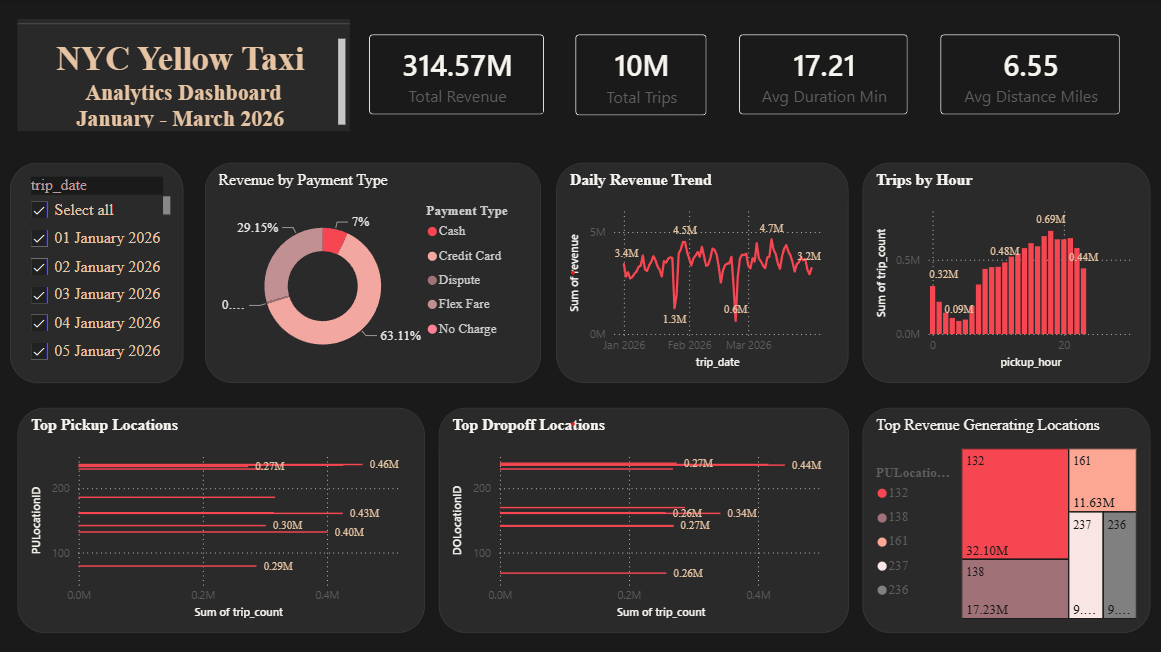

This screenshot's page, from the dashboard's own definition file:
{"tool":"powerbi","page":{"name":"Page 1","canvas":[1280,720],"ordinal":0},"visuals":[{"type":"cardVisual","title":"Average Trip Distance","fields":{"Data":["Avg(daily_kpi.avg_distance)"]},"box":[1015.4,22,231.9,122.1],"z":0},{"type":"cardVisual","title":"Average Trip Duration (Minutes)","fields":{"Data":["Avg(daily_kpi.avg_duration)"]},"box":[794.2,22,219.6,122.1],"z":1000},{"type":"cardVisual","title":"Total Trips","fields":{"Data":["daily_kpi.Total Trips KPI"]},"box":[614.1,22,178.4,123.5],"z":2000},{"type":"lineChart","title":"Daily Revenue Trend","fields":{"Category":["daily_revenue.trip_date"],"Y":["Sum(daily_revenue.revenue)"]},"box":[610.2,179.8,321.1,241.5],"z":3000},{"type":"clusteredColumnChart","title":"Trips by Hour","fields":{"Category":["trips_by_hour.pickup_hour"],"Y":["Sum(trips_by_hour.trip_count)"]},"box":[946.8,179.8,315.6,241.5],"z":4000},{"type":"donutChart","title":"Revenue by Payment Type","fields":{"Series":["payment_analysis.Payment Type Name"],"Y":["Sum(payment_analysis.revenue)"]},"box":[225.5,179.8,369.1,241.5],"z":5000},{"type":"clusteredBarChart","title":"Top Pickup Locations","fields":{"Category":["top_pickup_locations.PULocationID"],"Y":["Sum(top_pickup_locations.trip_count)"]},"box":[19.2,448.7,447.3,247],"z":6000},{"type":"clusteredBarChart","title":"Top Dropoff Locations","fields":{"Category":["top_dropoff_locations.DOLocationID"],"Y":["Sum(top_dropoff_locations.trip_count)"]},"box":[481.6,448.7,450.1,247],"z":7000},{"type":"cardVisual","fields":{"Data":["Sum(daily_kpi.Total Revenue)"]},"box":[388.3,22,226.4,122.1],"z":8000},{"type":"slicer","title":"Trip Date","fields":{"Values":["daily_kpi.trip_date"]},"box":[10.4,179.4,190.7,241.5],"z":9000},{"type":"textbox","box":[19.2,22,365,123.5],"z":10000},{"type":"treemap","title":"Top Revenue Generating Locations","fields":{"Group":["location_revenue.PULocationID"],"Values":["Sum(location_revenue.revenue)"]},"box":[946.8,448.7,316,247],"z":11000}]}

Visuals, with their boxes in screenshot pixels (x1, y1, x2, y2), scaled from the page's 1280x720 canvas onto the 1161x652 screenshot:
"Average Trip Distance" cardVisual: (921, 20, 1131, 130)
"Average Trip Duration (Minutes)" cardVisual: (720, 20, 920, 130)
"Total Trips" cardVisual: (557, 20, 719, 132)
"Daily Revenue Trend" lineChart: (553, 163, 845, 382)
"Trips by Hour" clusteredColumnChart: (859, 163, 1145, 382)
"Revenue by Payment Type" donutChart: (205, 163, 539, 382)
"Top Pickup Locations" clusteredBarChart: (17, 406, 423, 630)
"Top Dropoff Locations" clusteredBarChart: (437, 406, 845, 630)
cardVisual - Sum(daily_kpi.Total Revenue): (352, 20, 558, 130)
"Trip Date" slicer: (9, 162, 182, 381)
textbox: (17, 20, 348, 132)
"Top Revenue Generating Locations" treemap: (859, 406, 1145, 630)
